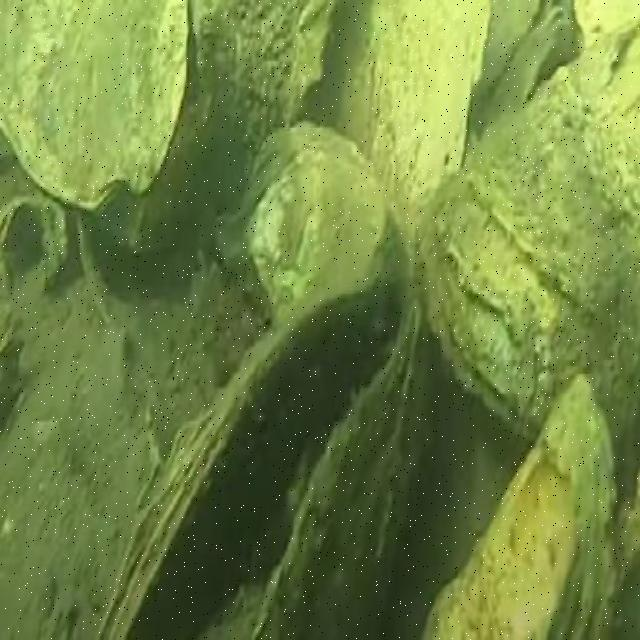Oyster-Closed: (415, 16, 640, 451), (87, 0, 337, 257), (307, 0, 492, 313), (417, 380, 620, 640), (0, 0, 195, 206), (217, 131, 392, 327)
Oyster-Open: (95, 245, 423, 640)
